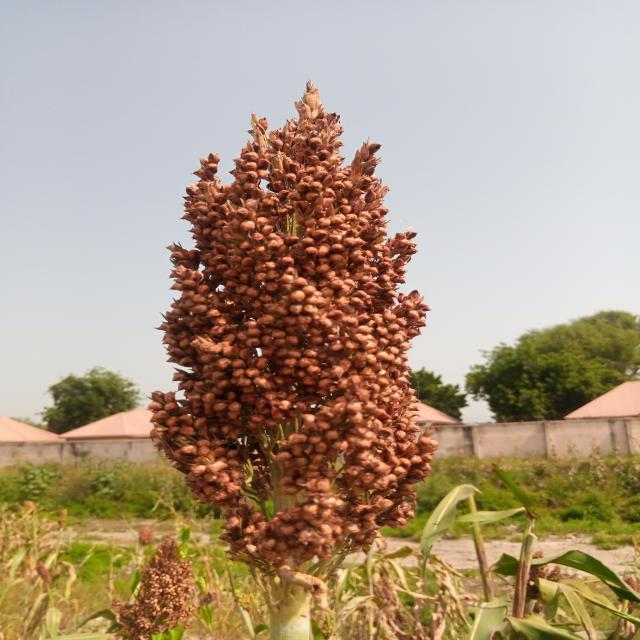RipeSorghum: (132, 69, 469, 600)
